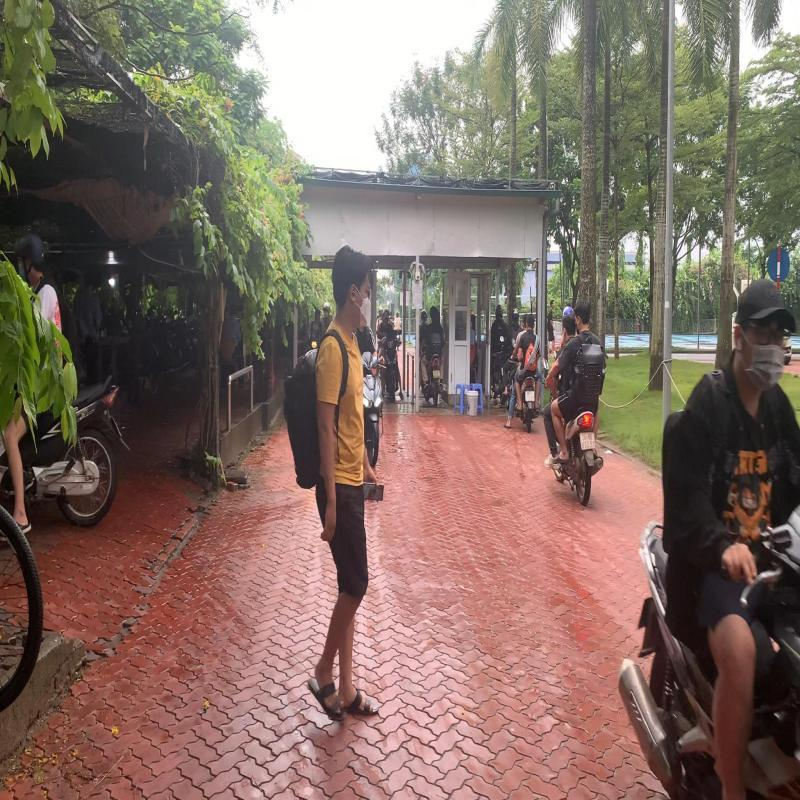nohelmet: (574, 297, 592, 331), (562, 312, 576, 342)
